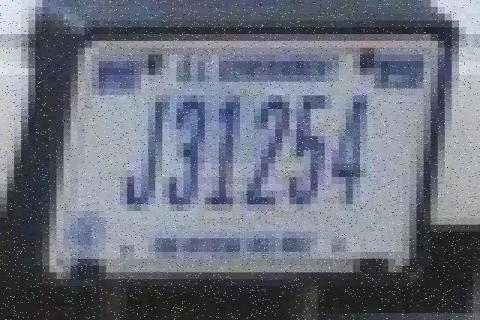LicensePlate: (22, 0, 452, 305)
